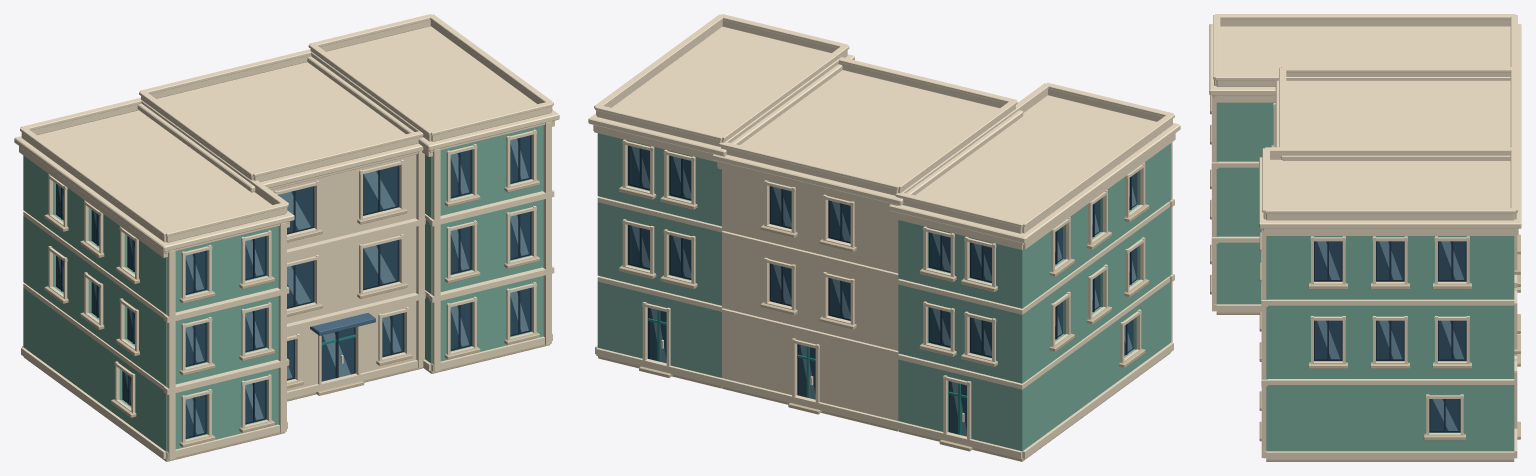
Rendered from three_wing_office.glb.
The picture shows the model from 3 angles, left to right: view 1: azimuth 30°, elevation 25°; view 2: azimuth 150°, elevation 25°; view 3: azimuth 270°, elevation 25°; orthographic projection. The views are drawn at different scales.
Parts seen in each view (by area): view 1: ThreeWingOffice_StaticMesh; view 2: ThreeWingOffice_StaticMesh; view 3: ThreeWingOffice_StaticMesh.
Part boxes in pixels (x1,y1,x2,y2): ThreeWingOffice_StaticMesh: (14, 14, 559, 461); ThreeWingOffice_StaticMesh: (588, 14, 1180, 461); ThreeWingOffice_StaticMesh: (1209, 14, 1521, 461).
Size of the model in its own units: 18.32 by 10.12 by 11.32.
